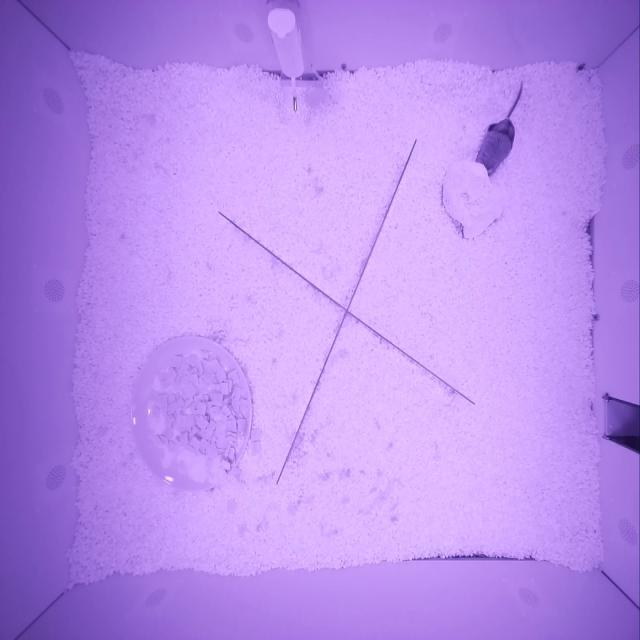adult_back: (475, 117, 514, 174)
